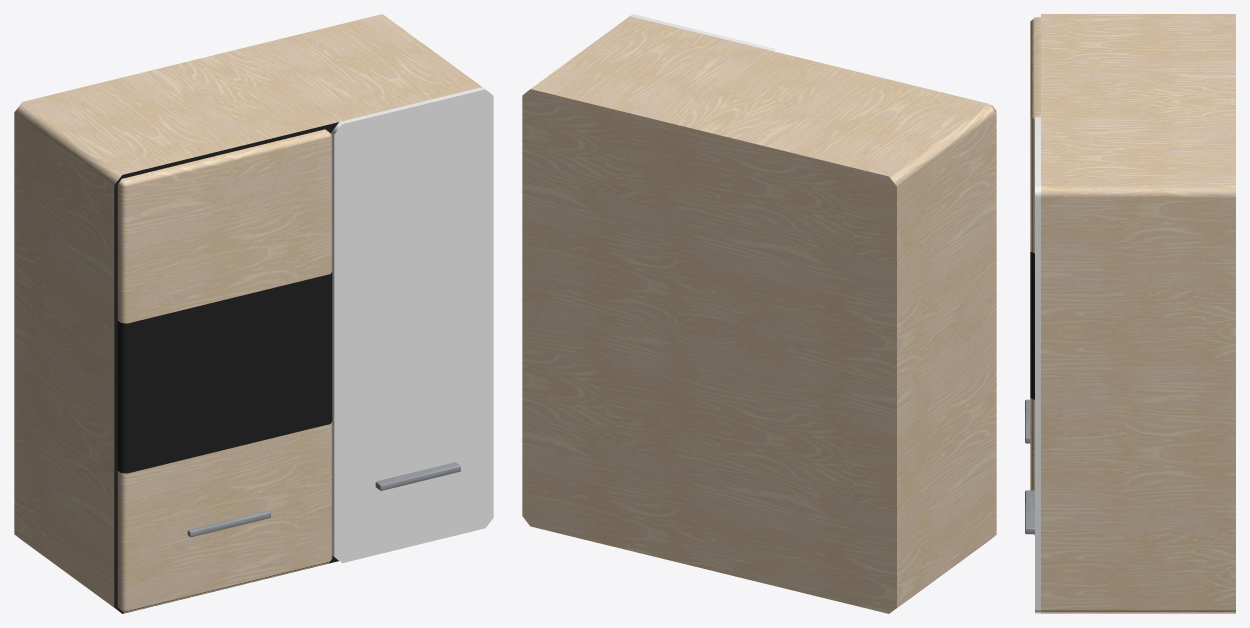
File: wall cabinet_007.fbx
3 renders of one model, left to right at view 1: azimuth 30°, elevation 25°; view 2: azimuth 150°, elevation 25°; view 3: azimuth 270°, elevation 25°, orthographic. The views are drawn at different scales.
Visible parts, largest first — view 1: wall cabinet_007; view 2: wall cabinet_007; view 3: wall cabinet_007.
Boxes of the visible parts, x1=… form: wall cabinet_007: x1=14, y1=14, x2=493, y2=613; wall cabinet_007: x1=522, y1=14, x2=996, y2=613; wall cabinet_007: x1=1025, y1=14, x2=1235, y2=613.
Size of the model in its own units: 151 by 75.23 by 169.
